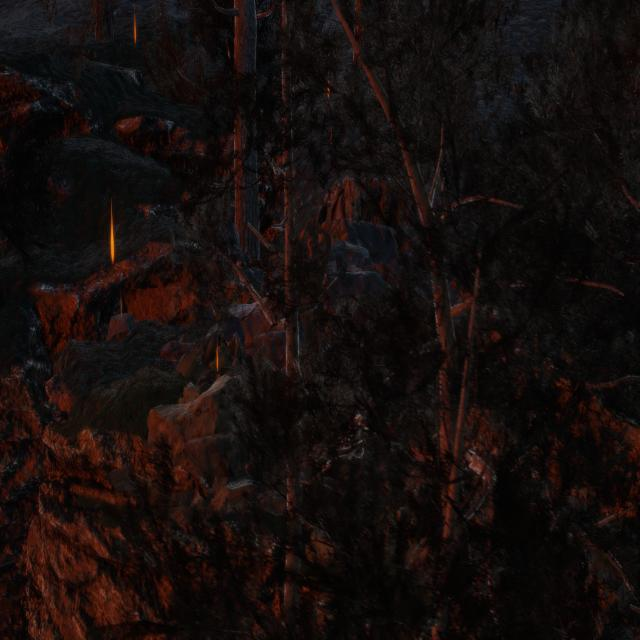Human: (292, 182, 340, 402)
